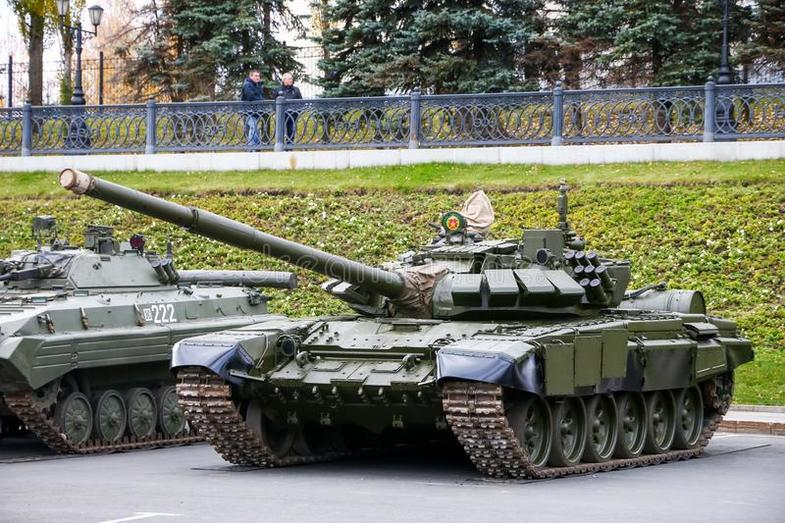t72: (66, 165, 747, 478)
